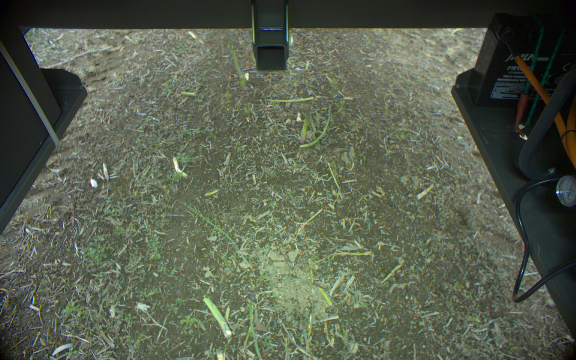aspa: (245, 289, 268, 360), (202, 294, 232, 339), (300, 105, 332, 145), (224, 38, 246, 86), (296, 108, 312, 144), (261, 93, 318, 103)
